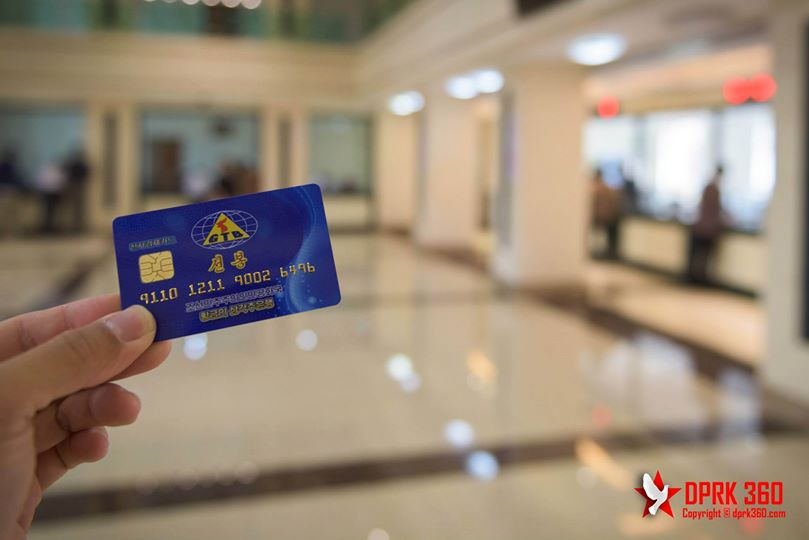tarjeta: (111, 181, 344, 344)
